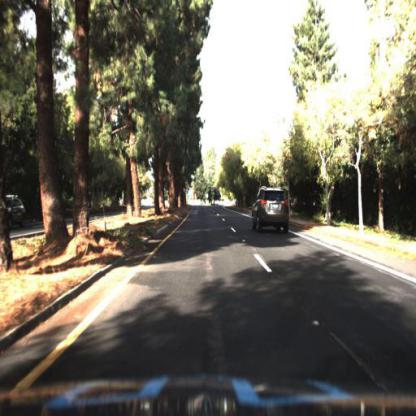car: (251, 184, 293, 234), (2, 195, 29, 232)
